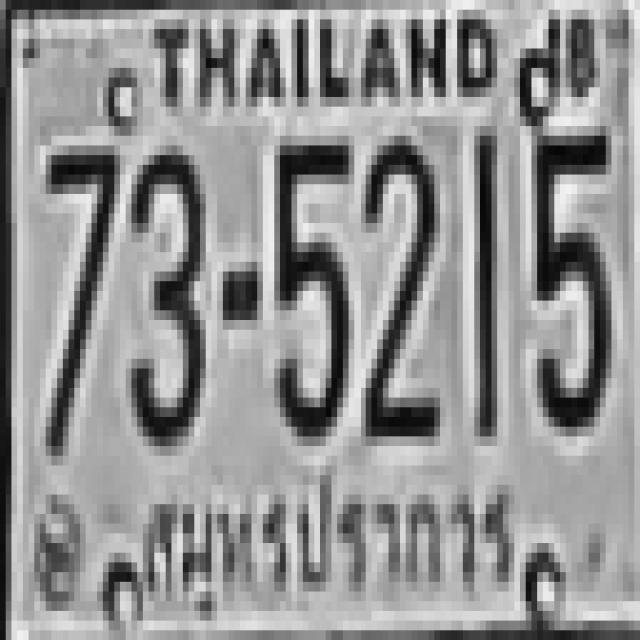1: (472, 126, 494, 436)
2: (360, 131, 434, 431)
3: (126, 146, 200, 437)
5: (531, 126, 606, 427), (271, 136, 346, 436)
7: (43, 141, 117, 451), (43, 140, 117, 364)
SamutPrakan: (136, 471, 523, 606)
